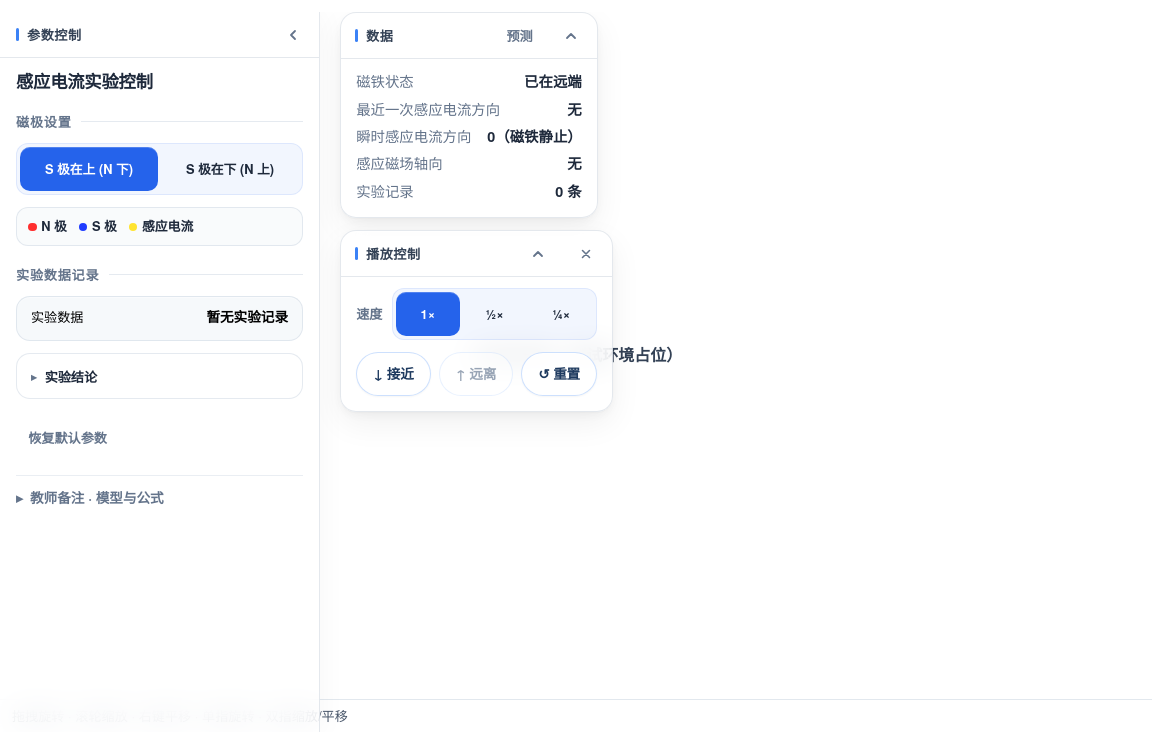
it: induction-current structure › renders key controls and keeps appending records before reset
Expected: the heading "感应电流实验控制" is shown, [16,69,153,93]
Expected: the button "↑ 远离" is shown, [439,352,513,396]
Click the button "↓ 接近" at (393, 374), box [356,352,431,396]
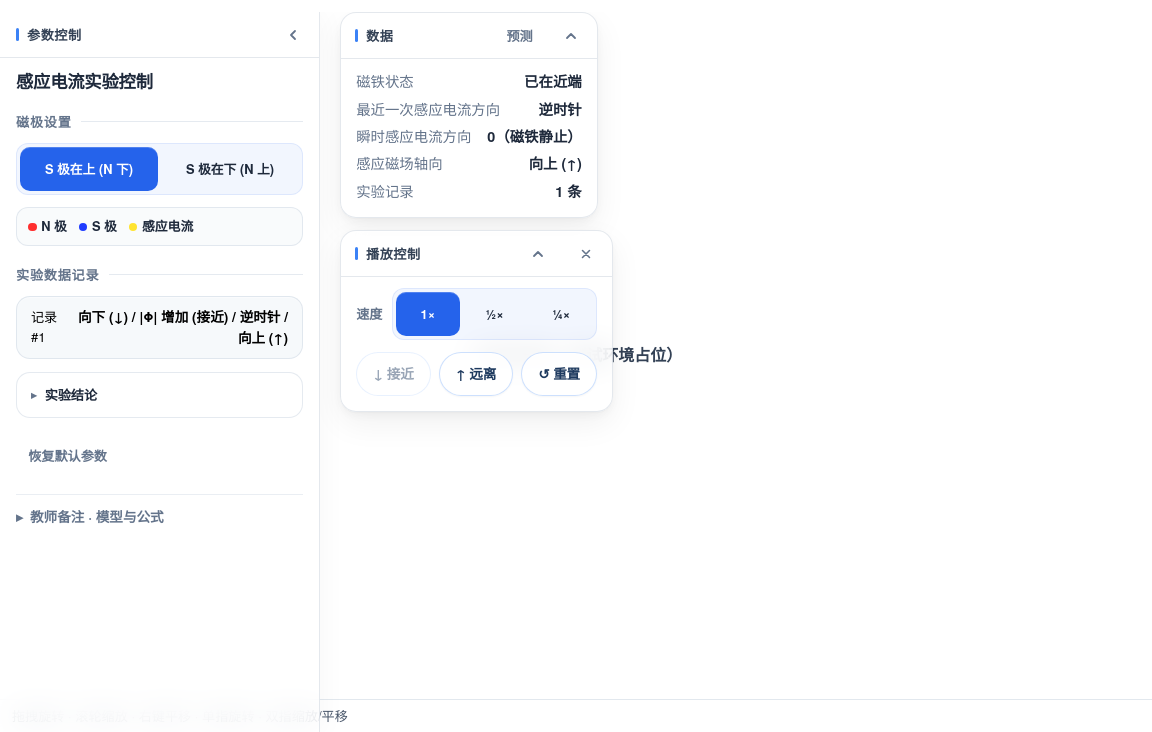
Expected: the text "记录 #1" is shown once, [31,307,57,346]
Expected: the button "↑ 远离" is enabled
Click the button "↑ 远离" at (476, 374), box [439,352,513,396]
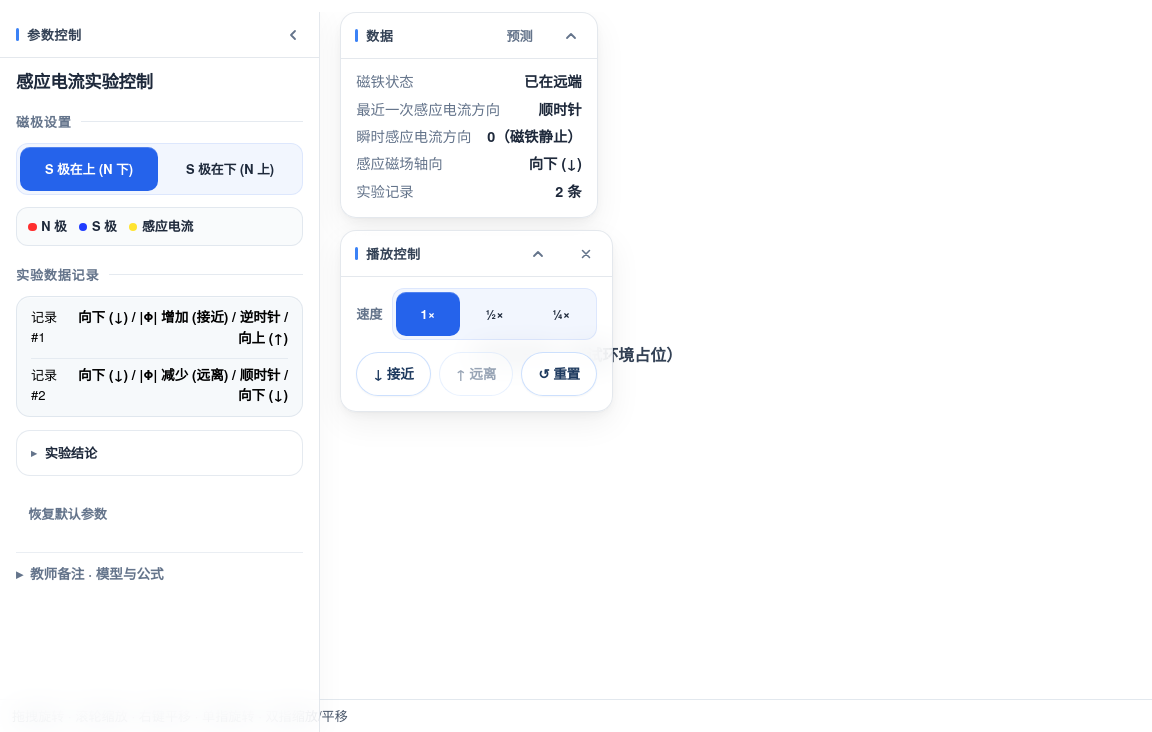
Expected: the text "记录 #1" is shown 2 times, [31,307,57,346]; [31,365,57,404]
Click the button "↺ 重置" at (559, 374), box [521,352,597,396]
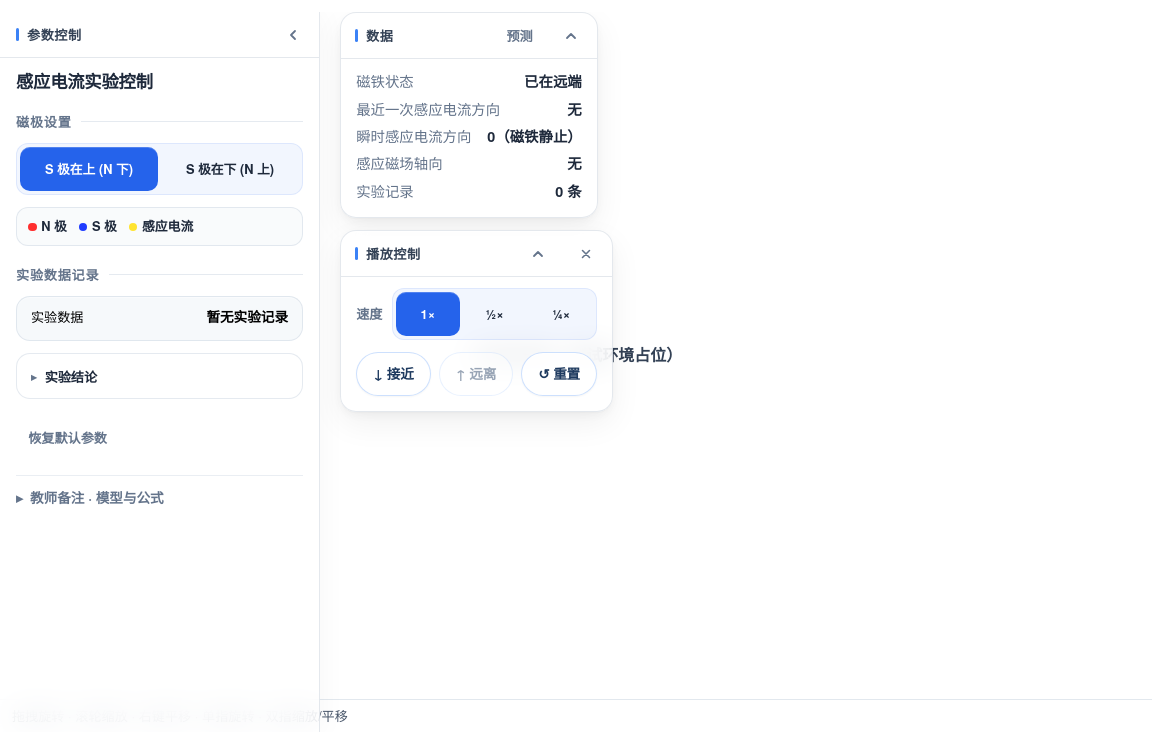
Expected: the text "暂无实验记录" is shown, [206,307,288,328]
